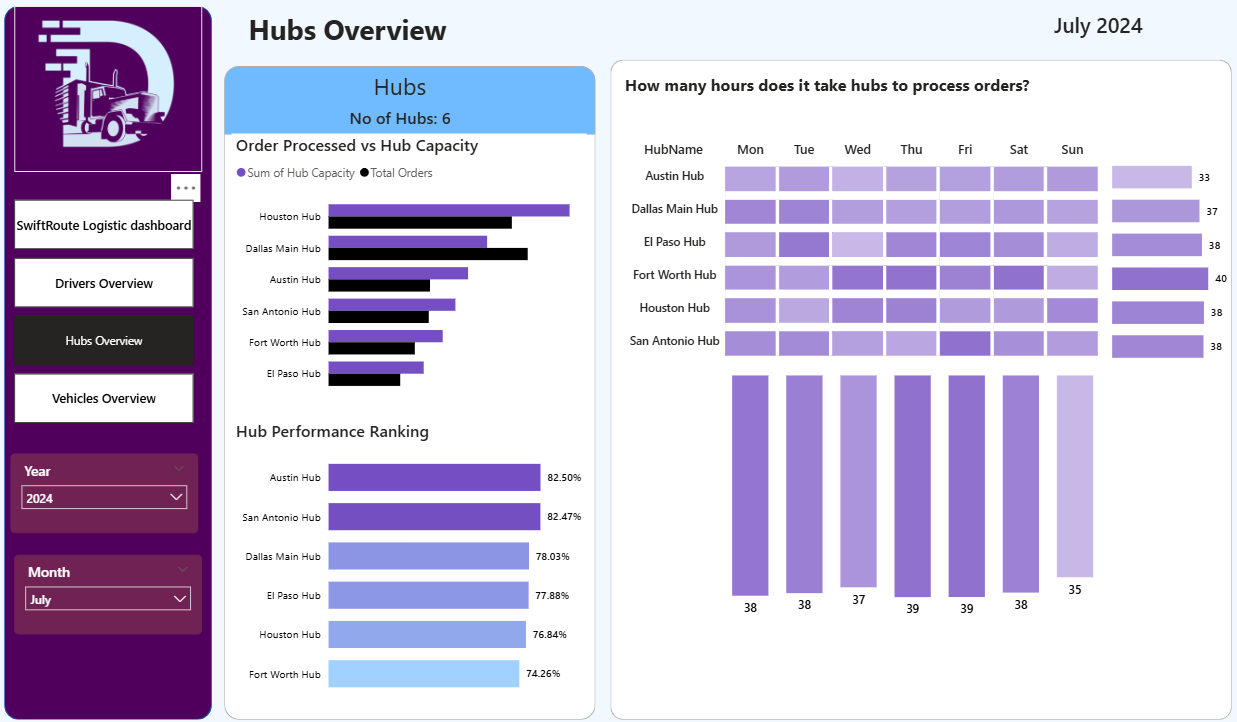

The dashboard page shown, as its layout file describes it:
{"tool":"powerbi","page":{"name":"Hubs Overview","canvas":[1450,850],"ordinal":2},"visuals":[{"type":"shape","box":[13,11.5,239.6,824.3],"z":0},{"type":"textbox","box":[290.2,11.5,1140.5,73.6],"z":1000},{"type":"slicer","fields":{"Values":["Date Table.Year"]},"box":[20.2,528.4,216.5,92.4],"z":2000},{"type":"slicer","fields":{"Values":["Date Table.Month"]},"box":[24.5,645.3,216.5,92.4],"z":3000},{"type":"image","box":[24.5,11.5,216.5,192],"z":4000},{"type":"cardVisual","fields":{"Data":["Orders.Year Month Value"]},"box":[1133.2,0,287.3,63.5],"z":5000},{"type":"shape","box":[713.1,73.6,717.5,762.2],"z":6000},{"type":"shape","box":[267.1,80.8,428.8,755],"z":7000},{"type":"shape","box":[267.1,80.8,428.8,79.4],"z":8000},{"type":"textbox","box":[330.6,80.8,278.6,50.5],"z":9000},{"type":"cardVisual","fields":{"Data":["Hubs.No of Hubs"]},"box":[314.7,119.8,311.8,39],"z":10000},{"type":"clusteredBarChart","title":"Order Processed vs Hub Capacity","fields":{"Category":["Hubs.HubName"],"Y":["Sum(Hubs.Hub Capacity)","Orders.Total Orders"]},"box":[275.7,158.8,410,311.8],"z":11000},{"type":"barChart","title":"Hub Performance Ranking","fields":{"Category":["Hubs.HubName"],"Y":["Orders.On Time Delivery Rate"]},"box":[275.7,489.4,410,333.5],"z":12000},{"type":"pivotTable","fields":{"Columns":["Date Table.Day"],"Rows":["Hubs.HubName"],"Values":["Orders.Avg Delivery Time(Hrs)"]},"box":[724.3,160,562.9,265.7],"z":13000},{"type":"columnChart","fields":{"Category":["Date Table.Day"],"Y":["Orders.Avg Delivery Time(Hrs)"]},"box":[848.8,424.4,428.8,300.3],"z":14000},{"type":"barChart","fields":{"Category":["Hubs.HubName"],"Y":["Orders.Avg Delivery Time(Hrs)"]},"box":[1287.7,183.3,161.7,241.1],"z":15000},{"type":"textbox","box":[724.3,85.7,612.9,61.4],"z":16000},{"type":"pageNavigator","box":[24.5,235.3,207.9,258.4],"z":16001}]}

Visuals, with their boxes in screenshot pixels (x1, y1, x2, y2), scaled from the page's 1450x850 canvas onto the 1237x722 screenshot:
shape: x1=11, y1=10, x2=215, y2=710
textbox: x1=248, y1=10, x2=1221, y2=72
slicer - Date Table.Year: x1=17, y1=449, x2=202, y2=527
slicer - Date Table.Month: x1=21, y1=548, x2=206, y2=627
image: x1=21, y1=10, x2=206, y2=173
cardVisual - Orders.Year Month Value: x1=967, y1=0, x2=1212, y2=54
shape: x1=608, y1=63, x2=1220, y2=710
shape: x1=228, y1=69, x2=594, y2=710
shape: x1=228, y1=69, x2=594, y2=136
textbox: x1=282, y1=69, x2=520, y2=112
cardVisual - Hubs.No of Hubs: x1=268, y1=102, x2=534, y2=135
"Order Processed vs Hub Capacity" clusteredBarChart: x1=235, y1=135, x2=585, y2=400
"Hub Performance Ranking" barChart: x1=235, y1=416, x2=585, y2=699
pivotTable - Date Table.Day x Hubs.HubName: x1=618, y1=136, x2=1098, y2=362
columnChart - Date Table.Day x Orders.Avg Delivery Time(Hrs): x1=724, y1=360, x2=1090, y2=616
barChart - Hubs.HubName x Orders.Avg Delivery Time(Hrs): x1=1099, y1=156, x2=1236, y2=360
textbox: x1=618, y1=73, x2=1141, y2=125
pageNavigator: x1=21, y1=200, x2=198, y2=419
